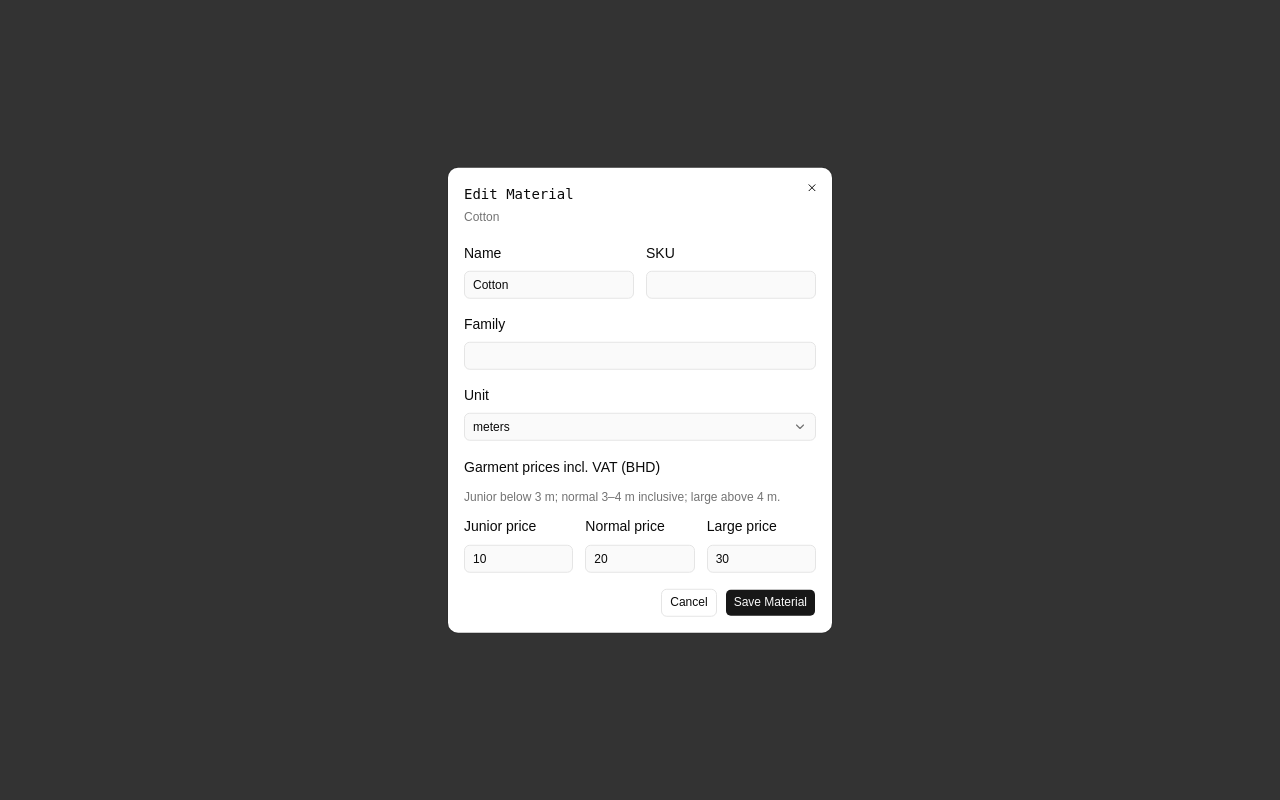
Test: edit material dialog › blocks negative prices before writing to the catalog
Step 1. Replace the text in the field labelled "Junior price" with "-1" → (519, 558), box [465, 544, 572, 572]
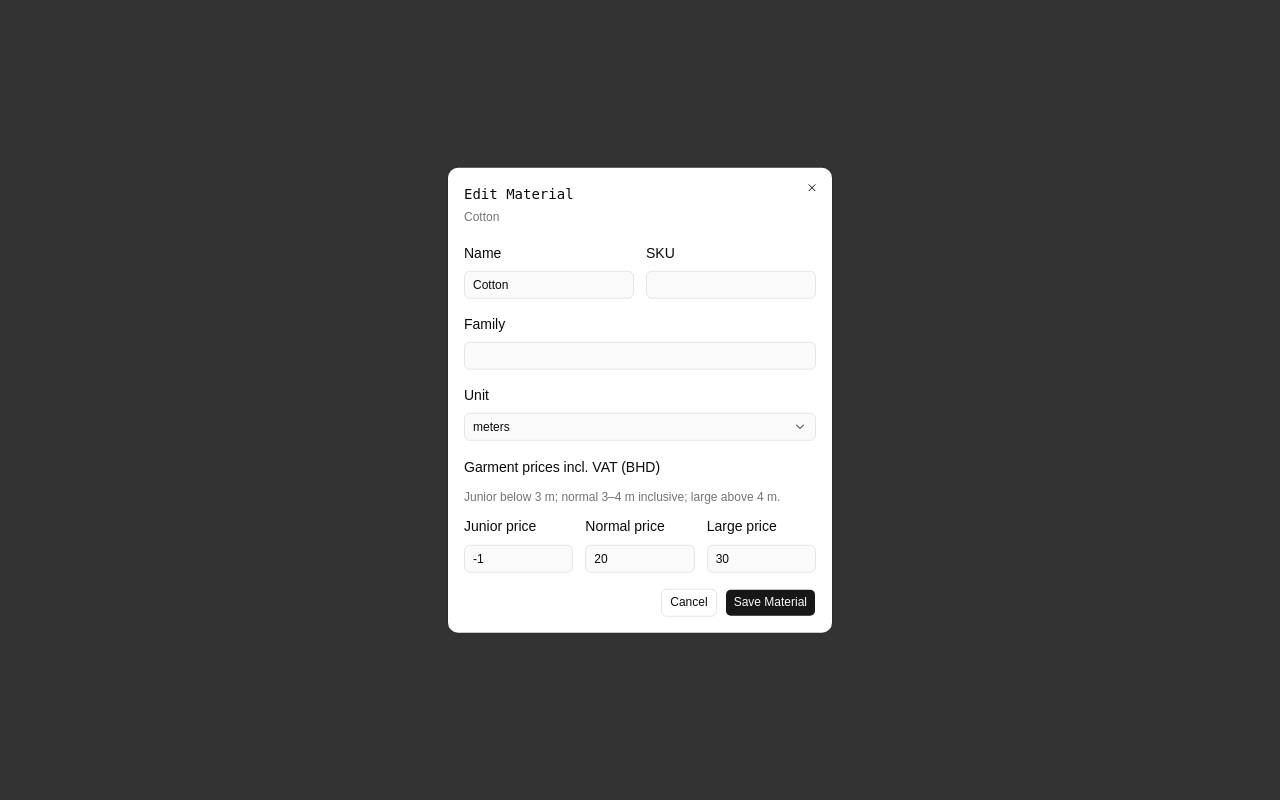
Step 2. Click the button "Save Material" → click(770, 602), box [725, 588, 816, 616]
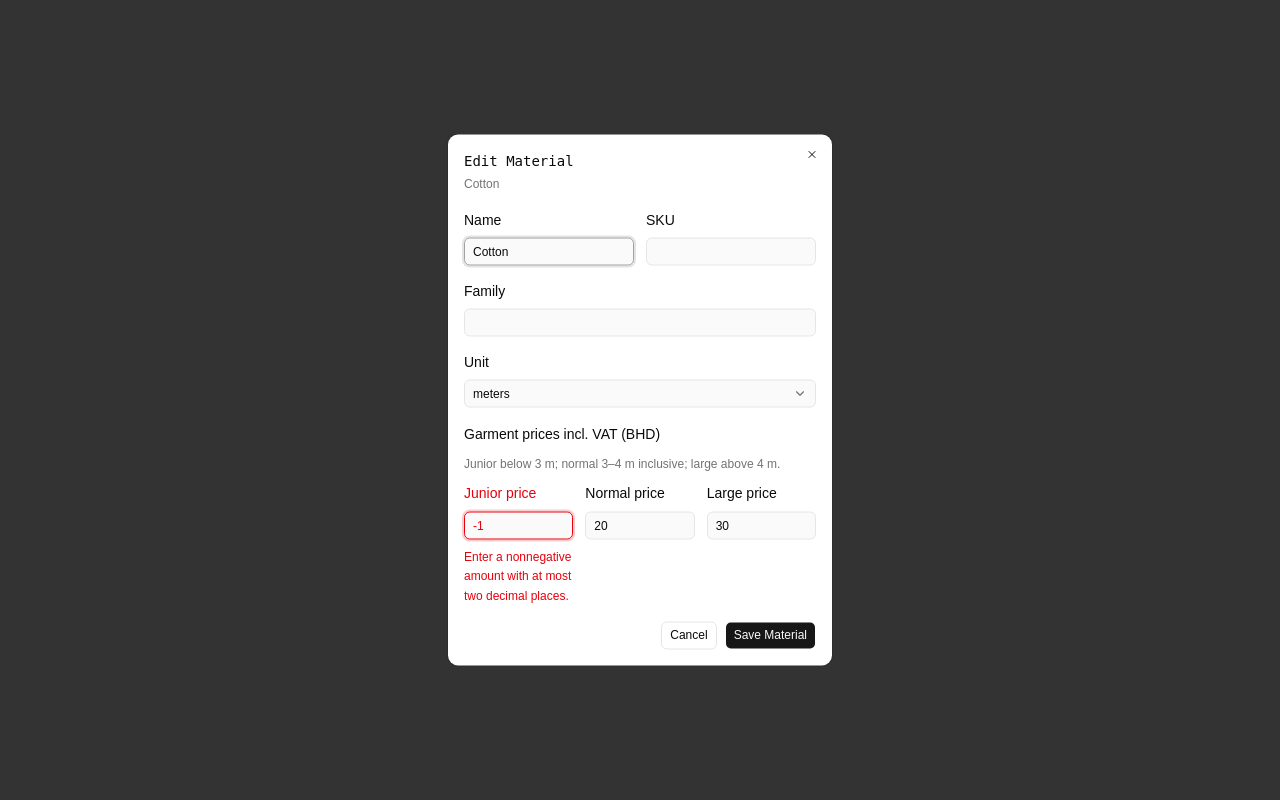
Check: the text "Enter a nonnegative amount with at most two decimal places." is shown, box [464, 547, 573, 606]
